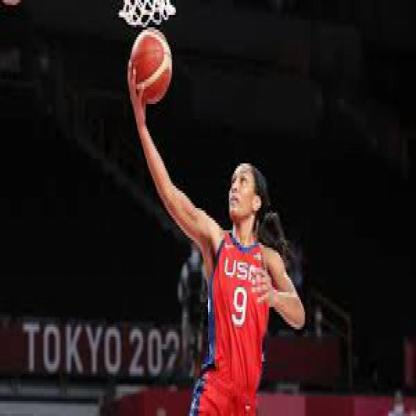basketball: (130, 27, 173, 107)
